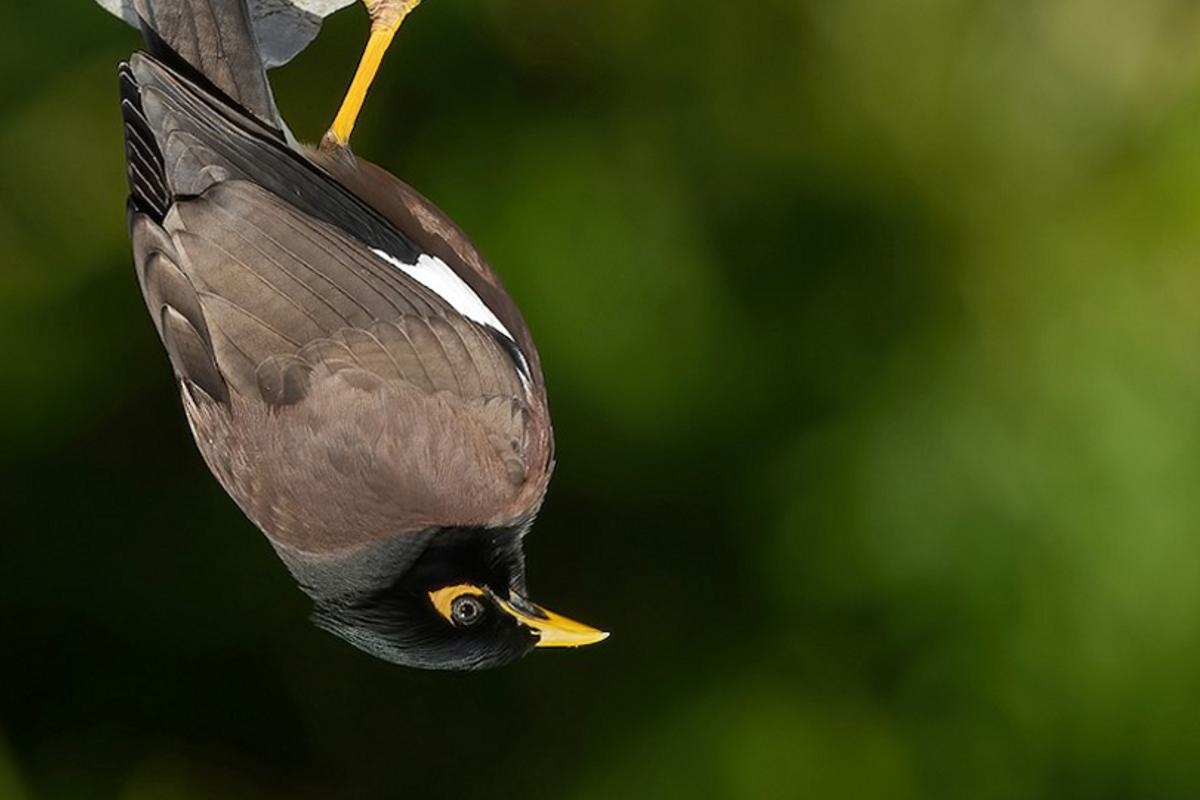myna: (93, 1, 678, 701)
